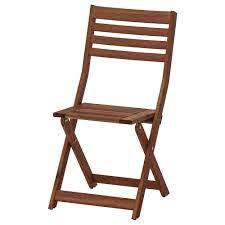chair: (49, 3, 179, 217)
